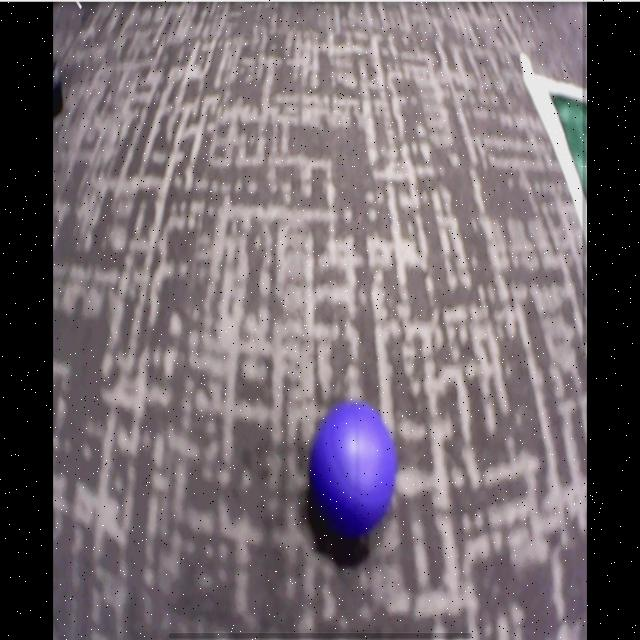ball: (312, 408, 397, 535)
